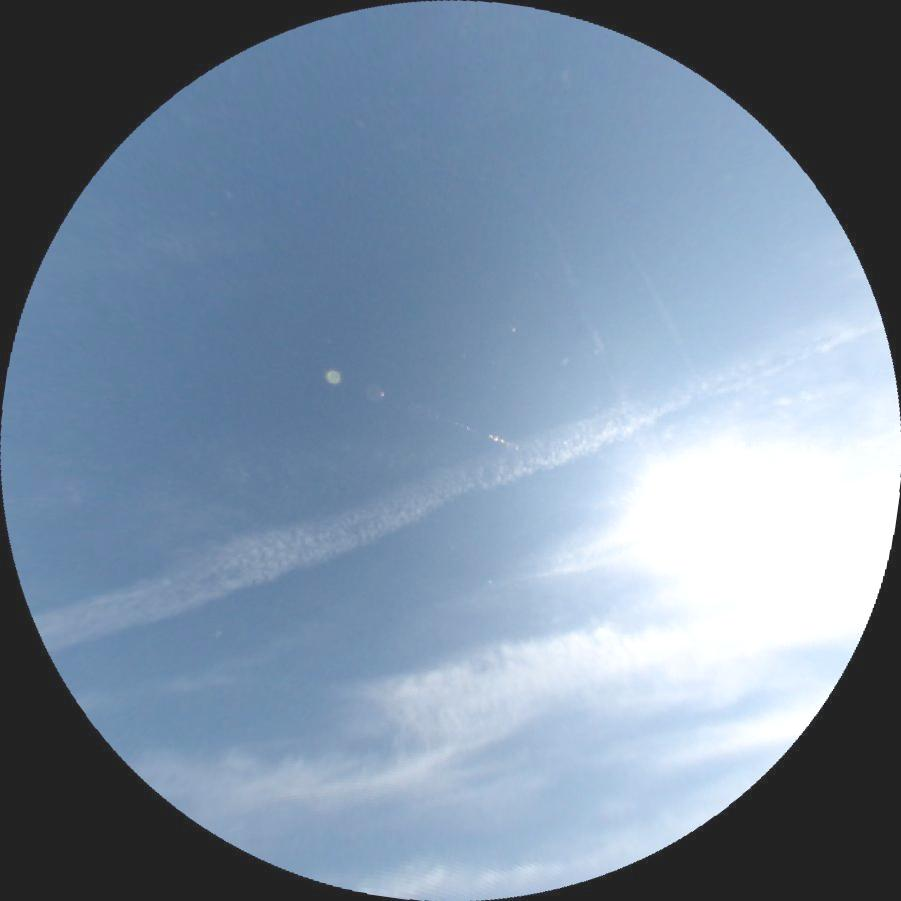contrail veryold: (33, 288, 890, 664), (543, 220, 675, 482)
sun: (643, 460, 820, 583)
unknow: (629, 253, 699, 375)
